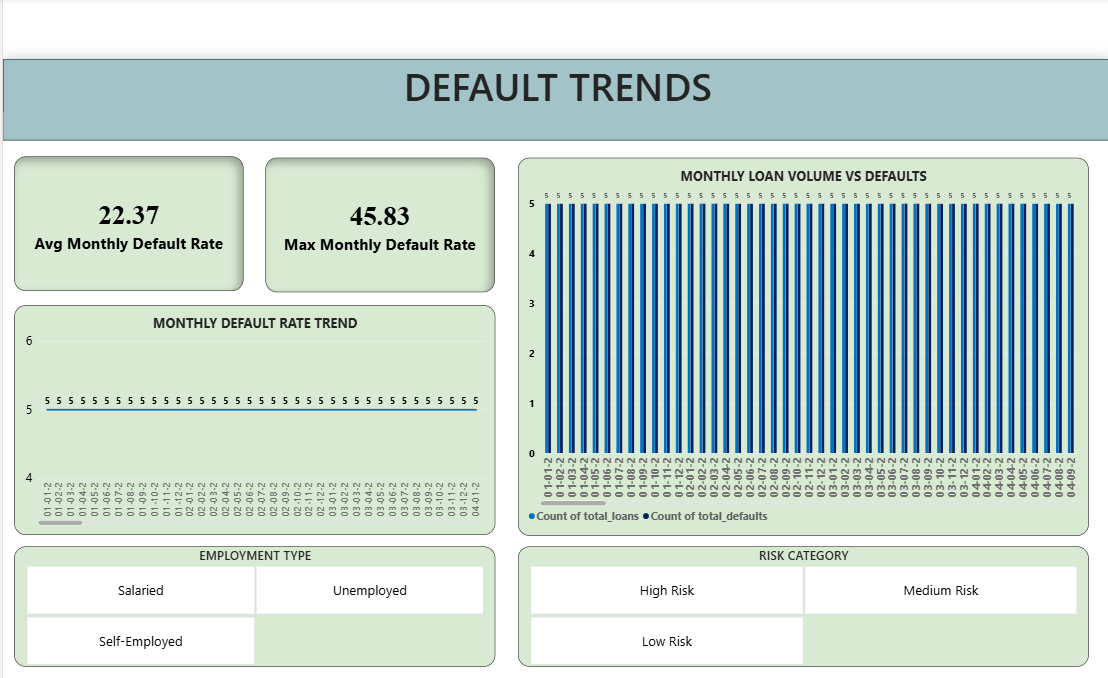

This screenshot's page, from the dashboard's own definition file:
{"tool":"powerbi","page":{"name":"Default Trends","canvas":[1920,1080],"ordinal":3},"visuals":[{"type":"shape","title":"DEFAULT TRENDS","box":[0,0,1920,140.8],"z":0},{"type":"card","fields":{"Values":["Measure Table.Avg Monthly Default Rate"]},"box":[19.2,168.5,396.8,232.5],"z":1000},{"type":"card","fields":{"Values":["Measure Table.Max Monthly Default Rate"]},"box":[454.4,170.7,396.8,232.5],"z":2000},{"type":"lineChart","title":"MONTHLY DEFAULT RATE TREND","fields":{"Category":["vw_monthly_trend.year_month"],"Y":["CountNonNull(vw_loan_purpose_analysis.default_rate_pct)"]},"box":[18.7,427.1,832.9,397.8],"z":3000},{"type":"clusteredColumnChart","title":"MONTHLY LOAN VOLUME VS DEFAULTS","fields":{"Category":["vw_monthly_trend.year_month"],"Y":["CountNonNull(vw_loan_purpose_analysis.total_loans)","CountNonNull(vw_loan_purpose_analysis.total_defaults)"]},"box":[891.7,170.9,987.8,654.1],"z":4000},{"type":"slicer","title":"EMPLOYMENT TYPE","fields":{"Values":["vw_npa_by_employment.employment_type"]},"box":[18.7,843.6,832.9,208.2],"z":5000},{"type":"slicer","title":"RISK CATEGORY","fields":{"Values":["vw_risk_scoring.risk_category"]},"box":[892,844,988,208],"z":6000}]}

Visuals, with their boxes on the page's 1920x1080 design canvas (x1, y1, x2, y2). These are canvas units, not pixel positions in the 1108x678 screenshot, which may show the page scaled, cropped or inside an application window:
"DEFAULT TRENDS" shape: (x1=0, y1=0, x2=1920, y2=141)
card - Measure Table.Avg Monthly Default Rate: (x1=19, y1=168, x2=416, y2=401)
card - Measure Table.Max Monthly Default Rate: (x1=454, y1=171, x2=851, y2=403)
"MONTHLY DEFAULT RATE TREND" lineChart: (x1=19, y1=427, x2=852, y2=825)
"MONTHLY LOAN VOLUME VS DEFAULTS" clusteredColumnChart: (x1=892, y1=171, x2=1880, y2=825)
"EMPLOYMENT TYPE" slicer: (x1=19, y1=844, x2=852, y2=1052)
"RISK CATEGORY" slicer: (x1=892, y1=844, x2=1880, y2=1052)
